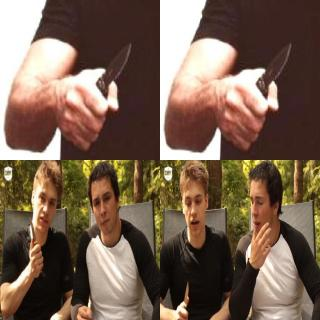knife: (72, 35, 133, 129), (232, 35, 292, 128), (26, 214, 44, 266), (176, 274, 192, 320)
